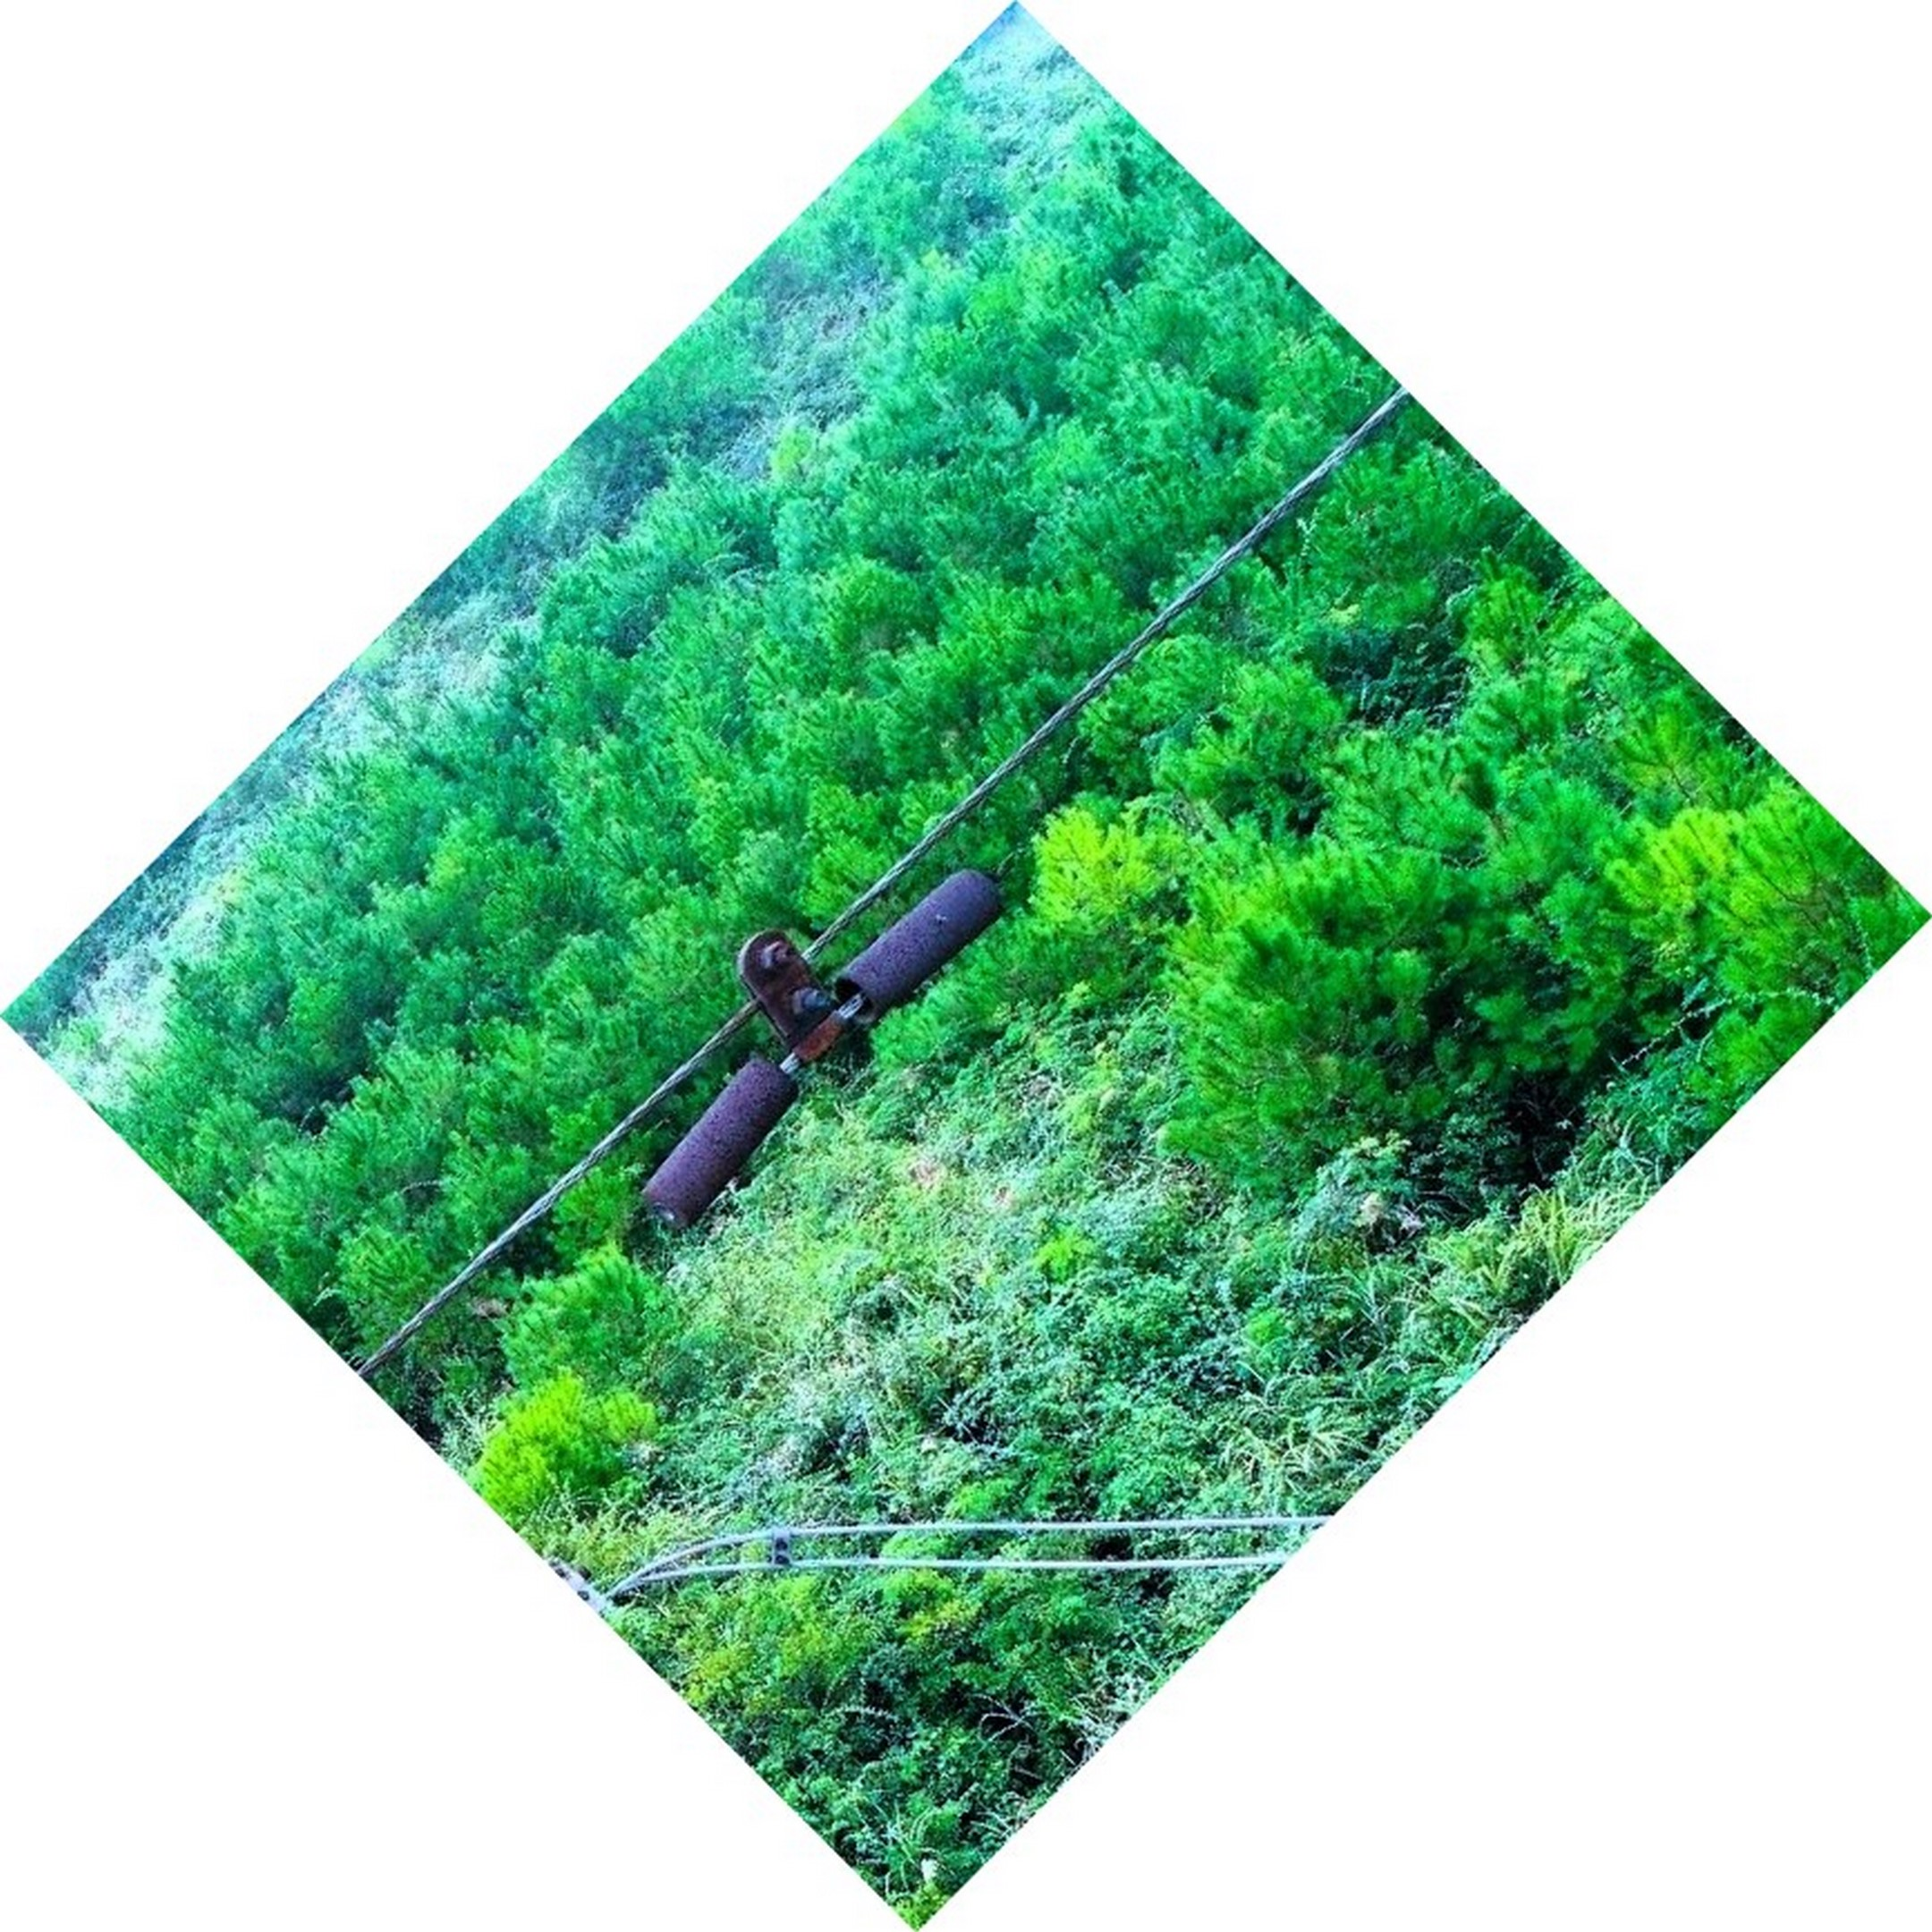Shockproof hammer: (598, 835, 1030, 1251)
